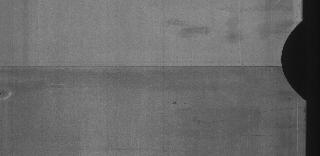welding line: (1, 62, 286, 74)
